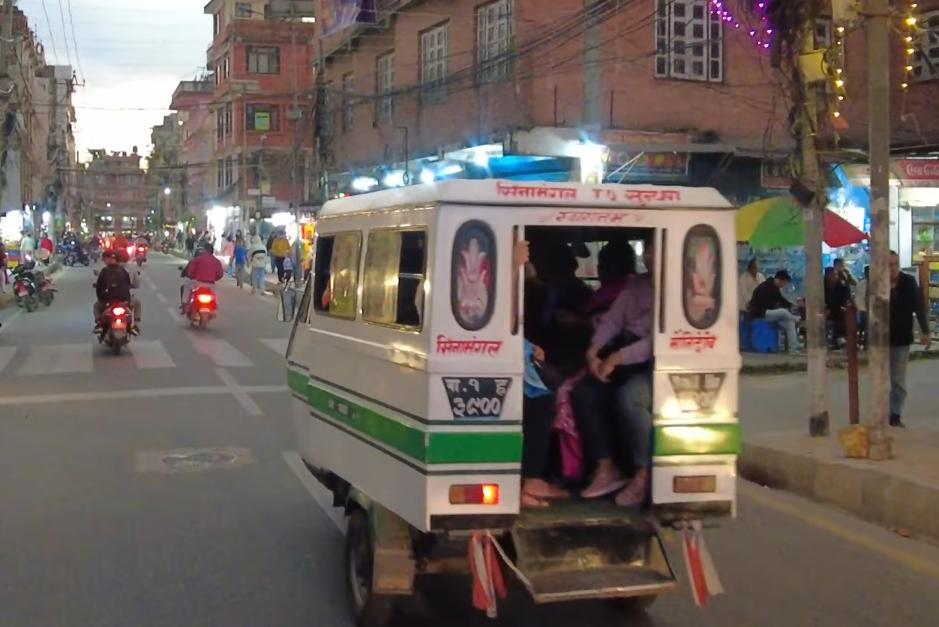bike: (89, 265, 148, 361)
scooter: (7, 261, 40, 316)
tempo: (259, 165, 743, 627)
